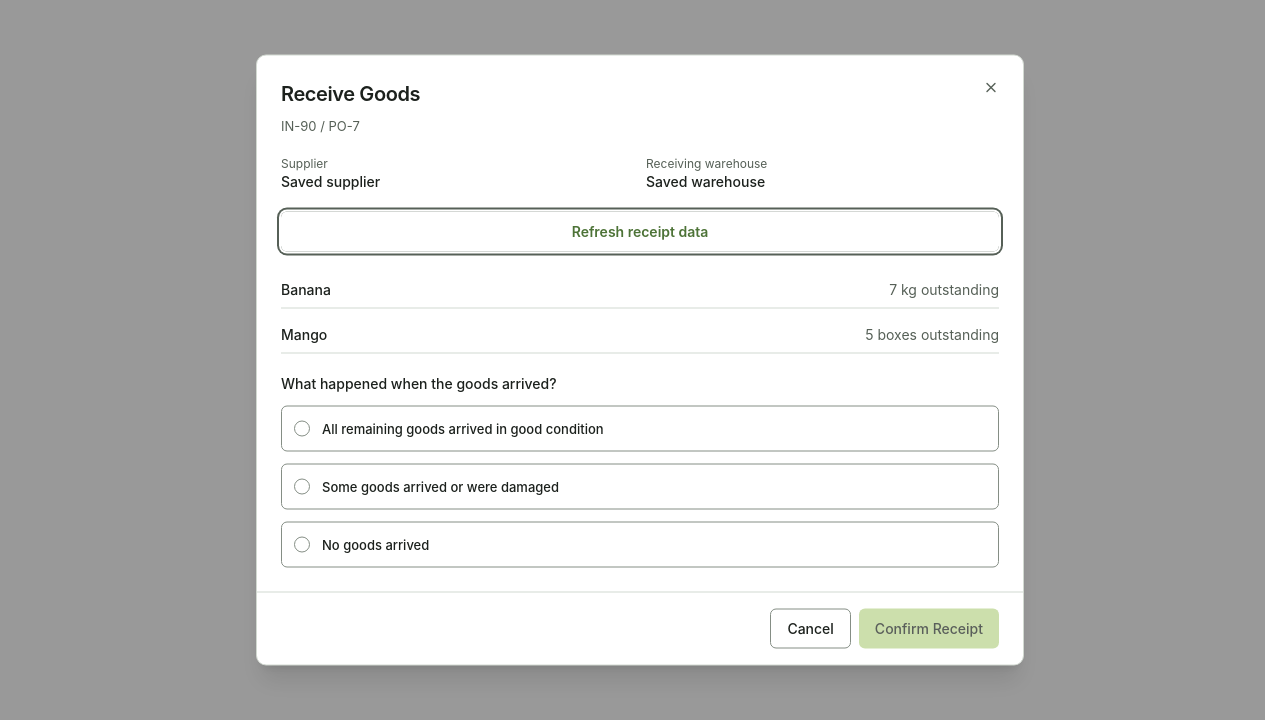
Test case: does not repeat an uncertain receipt when refresh finds the delivery already completed
Expected: the text "Banana" is shown, top-left (281, 280), bottom-right (331, 300)
Click the radio button labelled "Some goods arrived or were damaged" at (302, 486), box top-left (294, 478), bottom-right (310, 494)
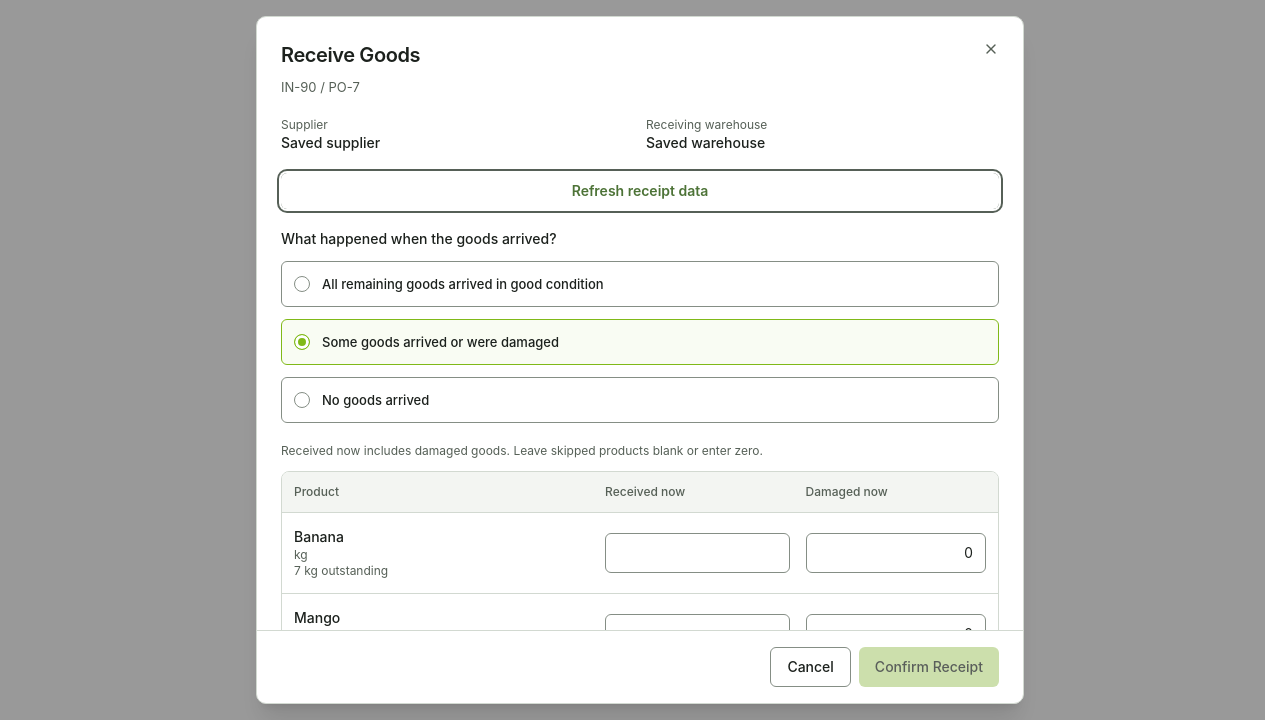
Type "1.25" into the field named "Received now for Banana (1)" at (697, 552), box top-left (605, 532), bottom-right (790, 572)
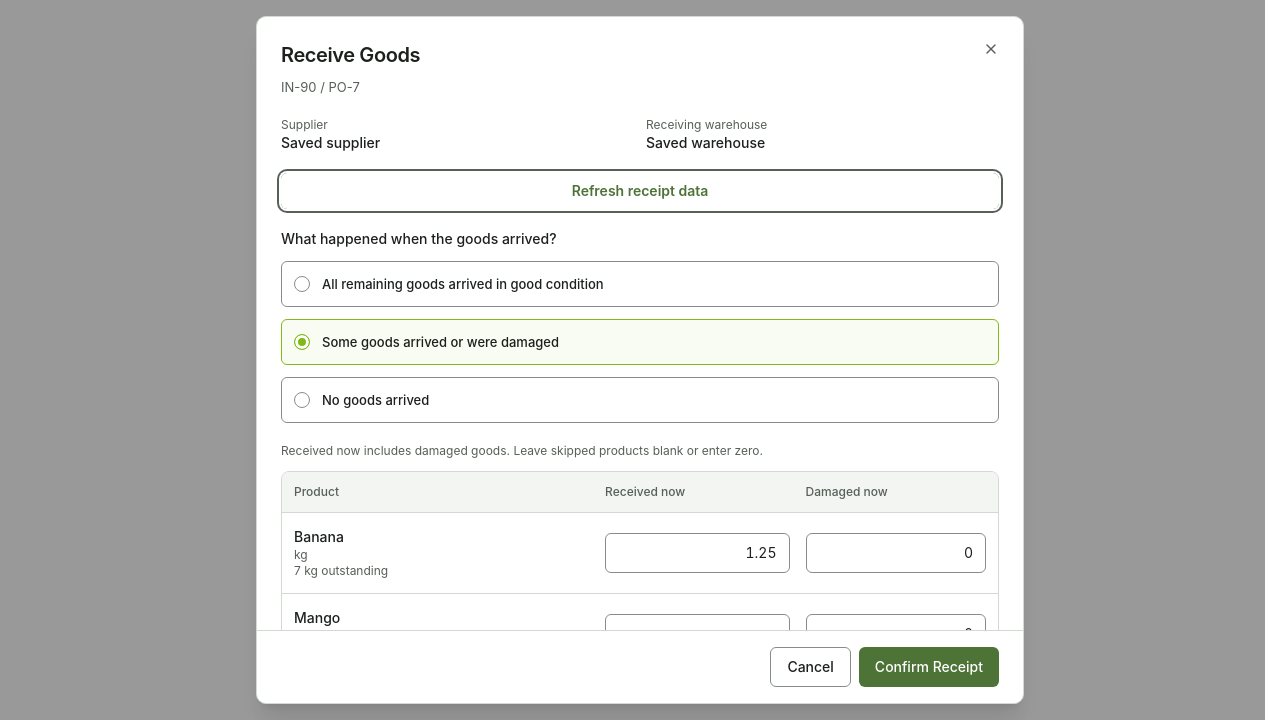
Click the button "Confirm Receipt" at (929, 667), box top-left (859, 647), bottom-right (999, 687)
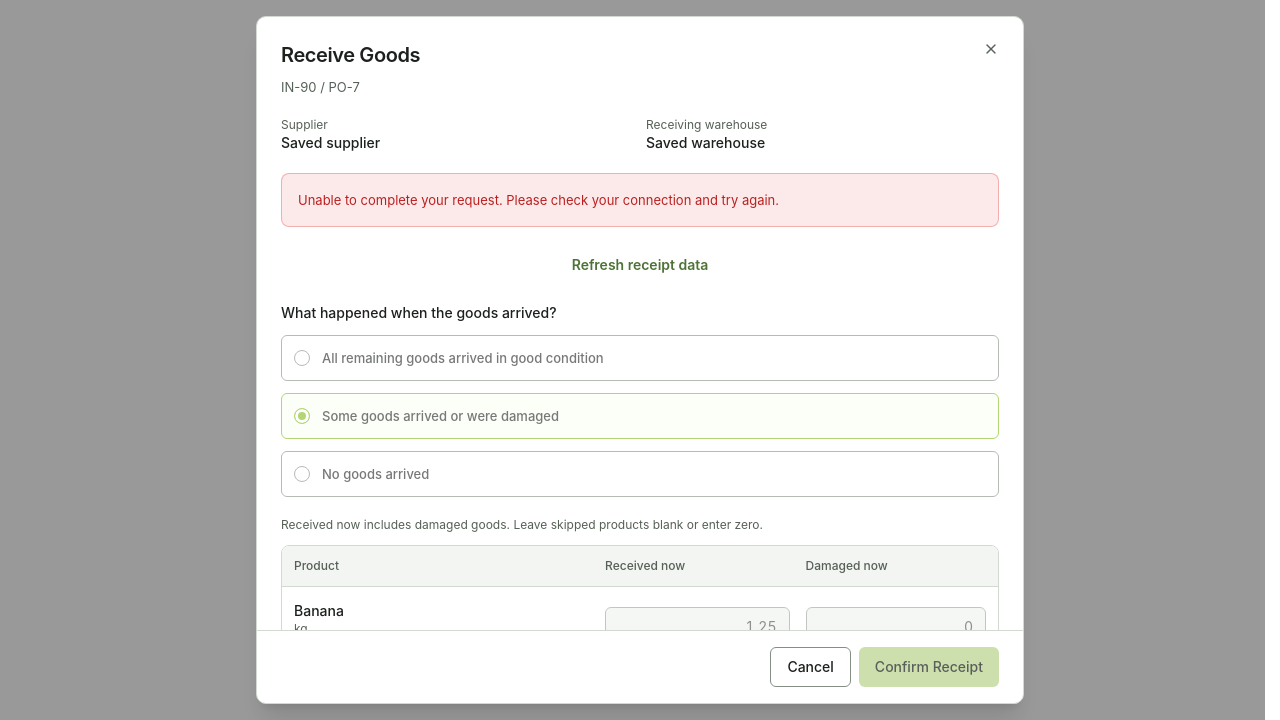
Expected: the message "Unable to complete your request. Please check your connection and try again." is shown, top-left (281, 173), bottom-right (999, 227)
Click the button "Refresh receipt data" at (640, 265), box top-left (281, 247), bottom-right (999, 283)
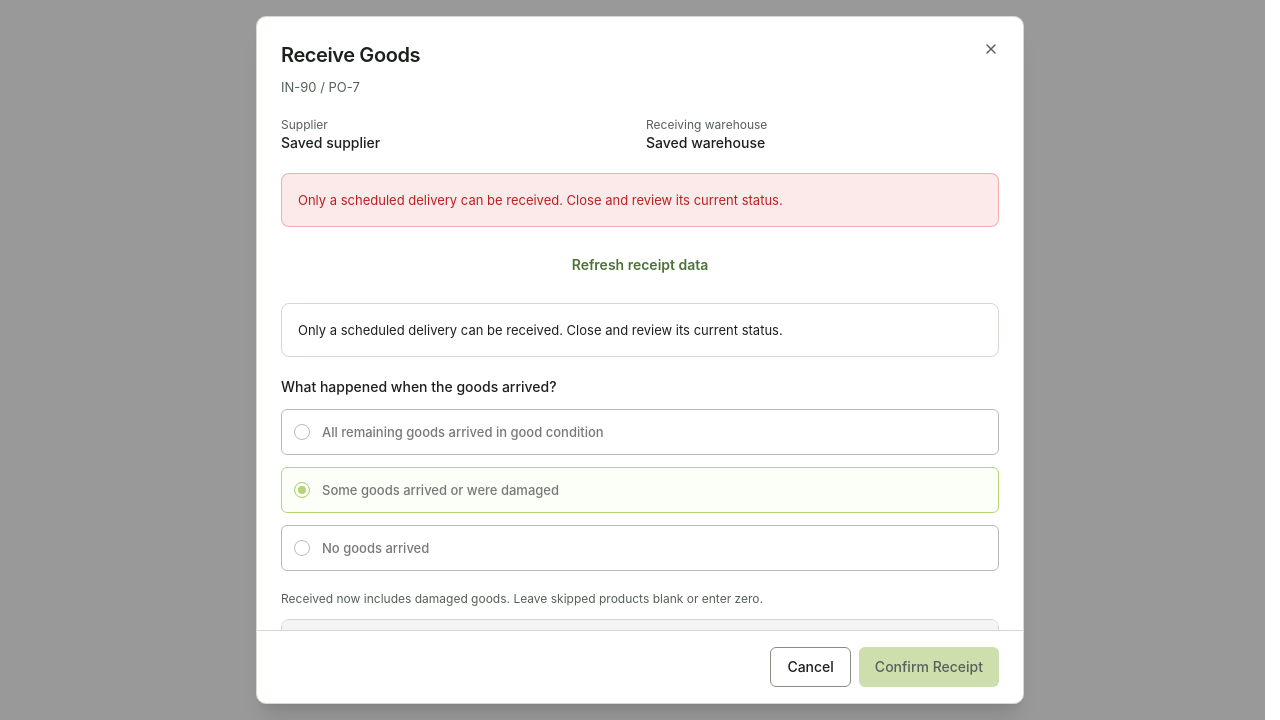
Expected: the 1st text "Only a scheduled delivery can be received" is shown, top-left (298, 192), bottom-right (783, 208)
